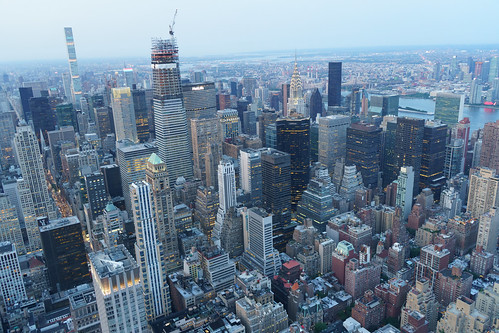building: (147, 31, 195, 177), (128, 180, 175, 314), (83, 244, 140, 332), (15, 117, 55, 239), (39, 217, 92, 280), (244, 202, 279, 272), (189, 112, 223, 184), (275, 114, 308, 186), (400, 273, 442, 326), (417, 121, 450, 184), (346, 121, 379, 184), (388, 114, 421, 177), (263, 145, 290, 214), (212, 157, 237, 228), (106, 84, 138, 139), (470, 169, 499, 226), (470, 119, 499, 176), (63, 23, 82, 103), (435, 265, 476, 301), (406, 245, 447, 281), (474, 212, 499, 271), (316, 114, 345, 160), (325, 56, 348, 111), (283, 58, 306, 113), (434, 91, 465, 123)
sky: (10, 1, 499, 53)
